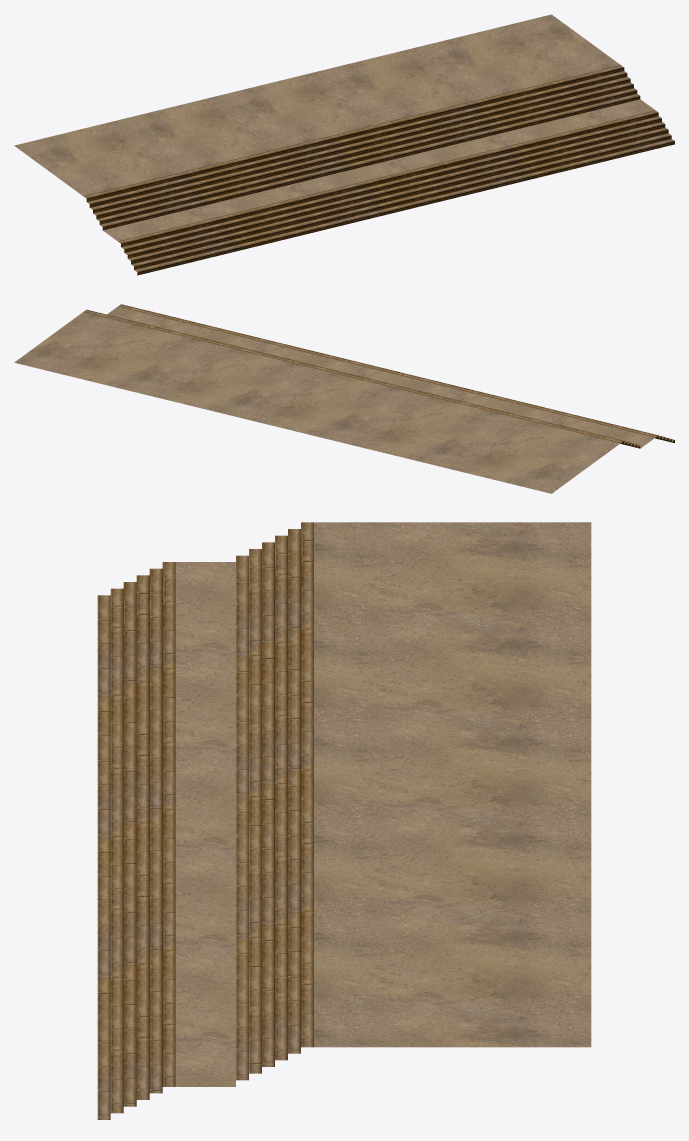
Rendered from Kunlun_gate03.FBX.
The picture shows the model from 3 angles, top to bottom: view 1: azimuth 30°, elevation 25°; view 2: azimuth 150°, elevation 25°; view 3: azimuth 270°, elevation 25°; orthographic projection. The views are drawn at different scales.
Visible parts, largest first — view 1: Box015; view 2: Box015; view 3: Box015.
Boxes of the visible parts, bbox=[...] form: Box015: bbox=[14, 14, 674, 275]; Box015: bbox=[14, 304, 674, 493]; Box015: bbox=[97, 522, 591, 1119].
Bounding box in the file's own units: 3840 × 271 × 1526.
2 materials, 2 textured.
